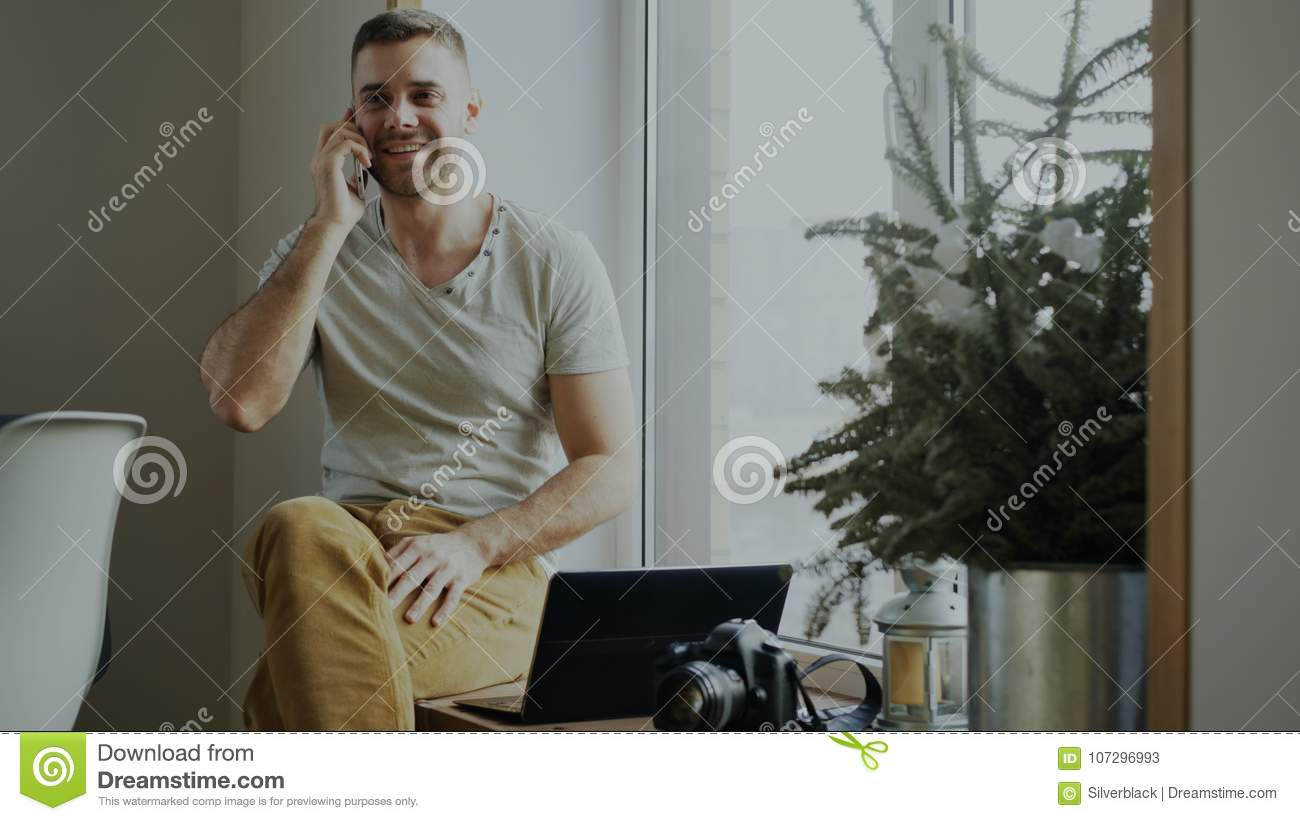phone: (339, 98, 368, 208)
talk: (308, 72, 450, 232)
